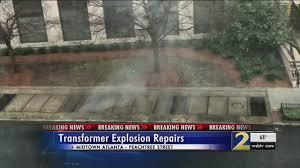smoke: (46, 5, 194, 123)
